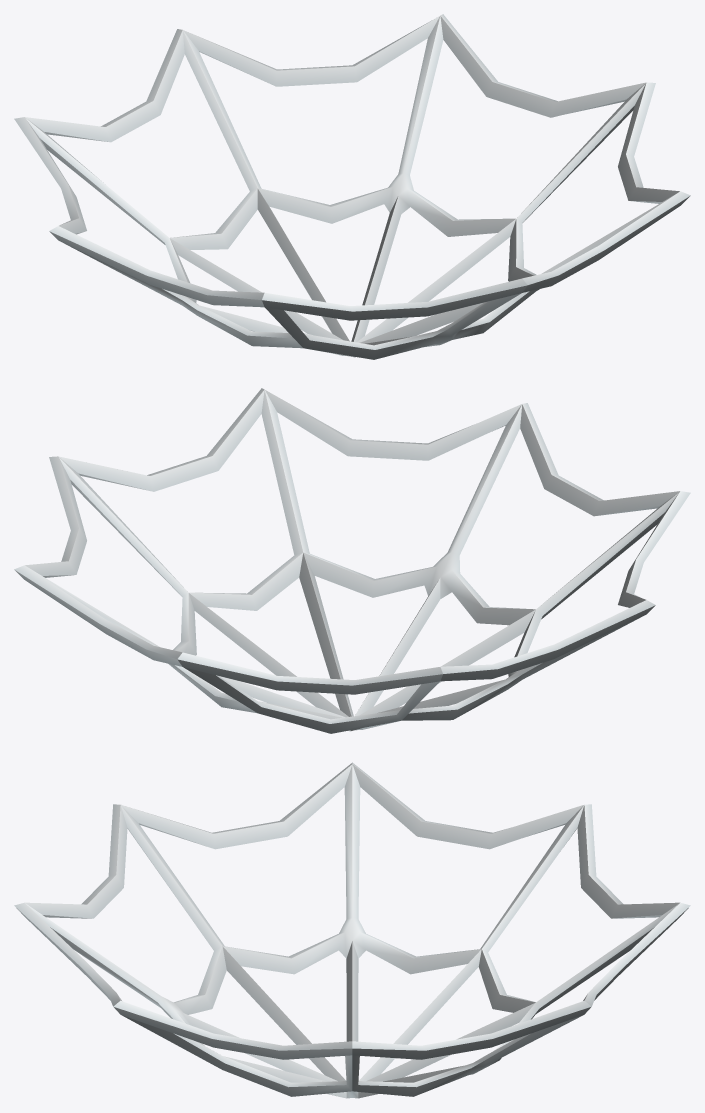
The model's file is cobweb_B.gltf.
3 views of the same model, one above another, from view 1: azimuth 30°, elevation 25°; view 2: azimuth 150°, elevation 25°; view 3: azimuth 270°, elevation 25° (orthographic). The views are drawn at different scales.
Visible parts, largest first — view 1: cobweb_B; view 2: cobweb_B; view 3: cobweb_B.
Boxes of the visible parts, box(x1,y1,x2,y2) form: cobweb_B: box(14, 14, 690, 359); cobweb_B: box(14, 388, 690, 733); cobweb_B: box(14, 762, 690, 1098).
Size of the model in its own units: 2.18 by 0.6928 by 2.18.
1 material, 1 textured.
